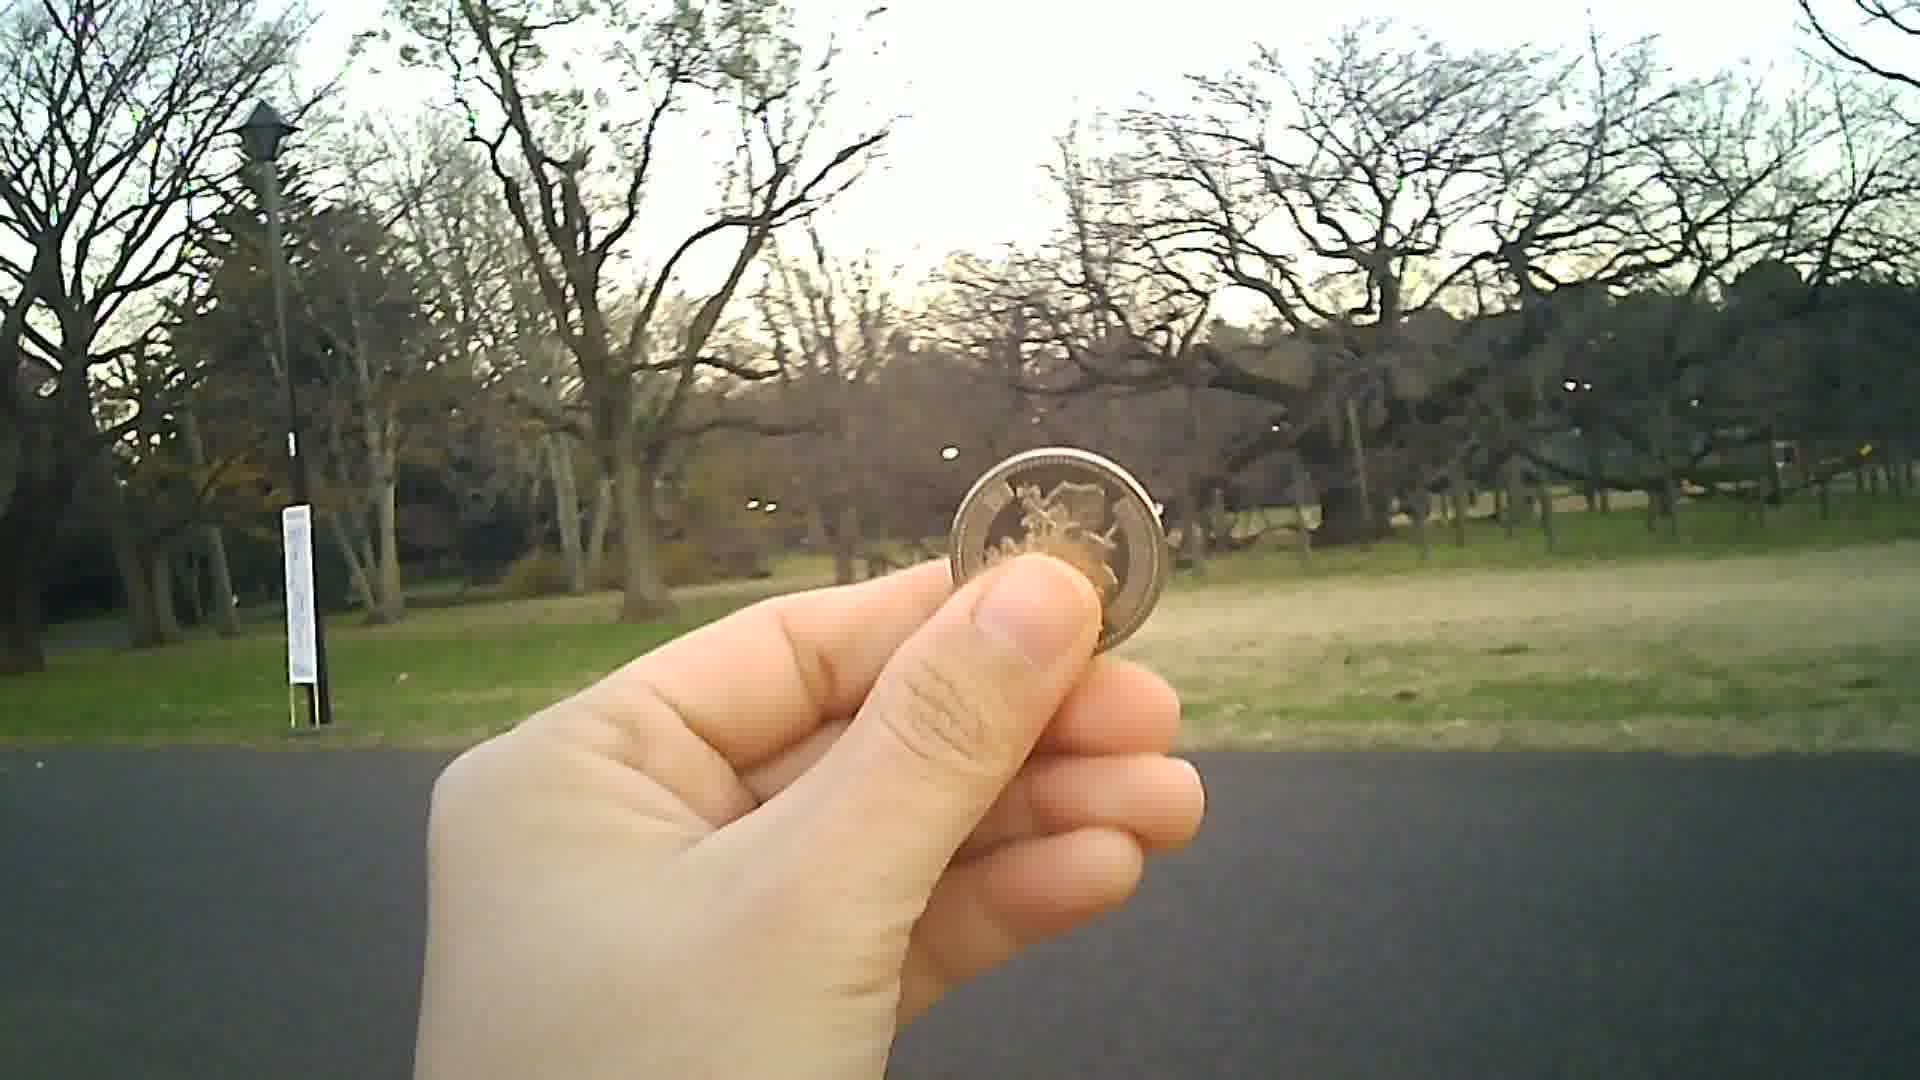500 Yen: (943, 438, 1182, 647)
